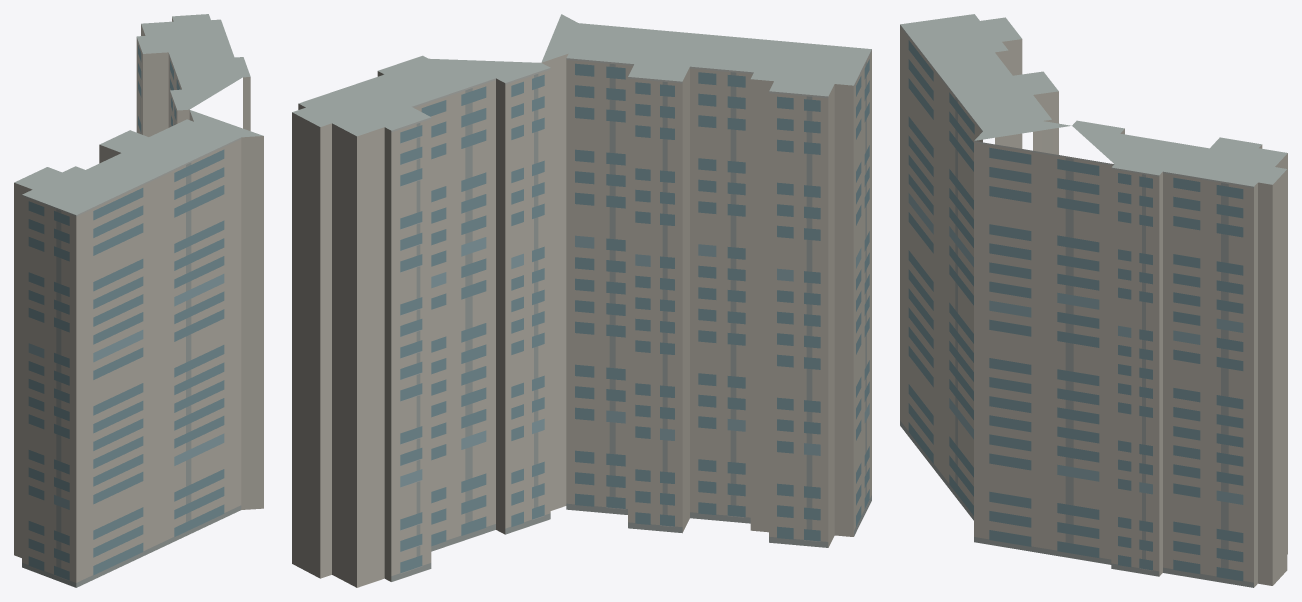
File: residential-e0abb7e7-9ef7-458e-a87b-ec037cf9003c.glb
3 renders of one model, left to right at view 1: azimuth 30°, elevation 25°; view 2: azimuth 150°, elevation 25°; view 3: azimuth 270°, elevation 25°, orthographic. The views are drawn at different scales.
Visible parts, largest first — view 1: residential-e0abb7e7-9ef7-458e-a87b-ec037cf9003c.tmp; view 2: residential-e0abb7e7-9ef7-458e-a87b-ec037cf9003c.tmp; view 3: residential-e0abb7e7-9ef7-458e-a87b-ec037cf9003c.tmp.
Boxes of the visible parts, x1,y1,x2,y2 form: residential-e0abb7e7-9ef7-458e-a87b-ec037cf9003c.tmp: [14, 14, 263, 587]; residential-e0abb7e7-9ef7-458e-a87b-ec037cf9003c.tmp: [292, 14, 871, 587]; residential-e0abb7e7-9ef7-458e-a87b-ec037cf9003c.tmp: [900, 14, 1287, 587].
Bounding box in the file's own units: 57.24 × 62 × 54.32.
